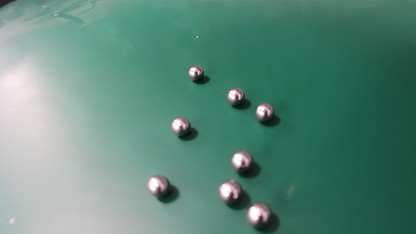ironball: (247, 202, 271, 228), (218, 179, 241, 204), (147, 175, 170, 198), (231, 150, 252, 172), (171, 117, 190, 136), (255, 103, 274, 121), (227, 88, 245, 105), (188, 65, 204, 80)
